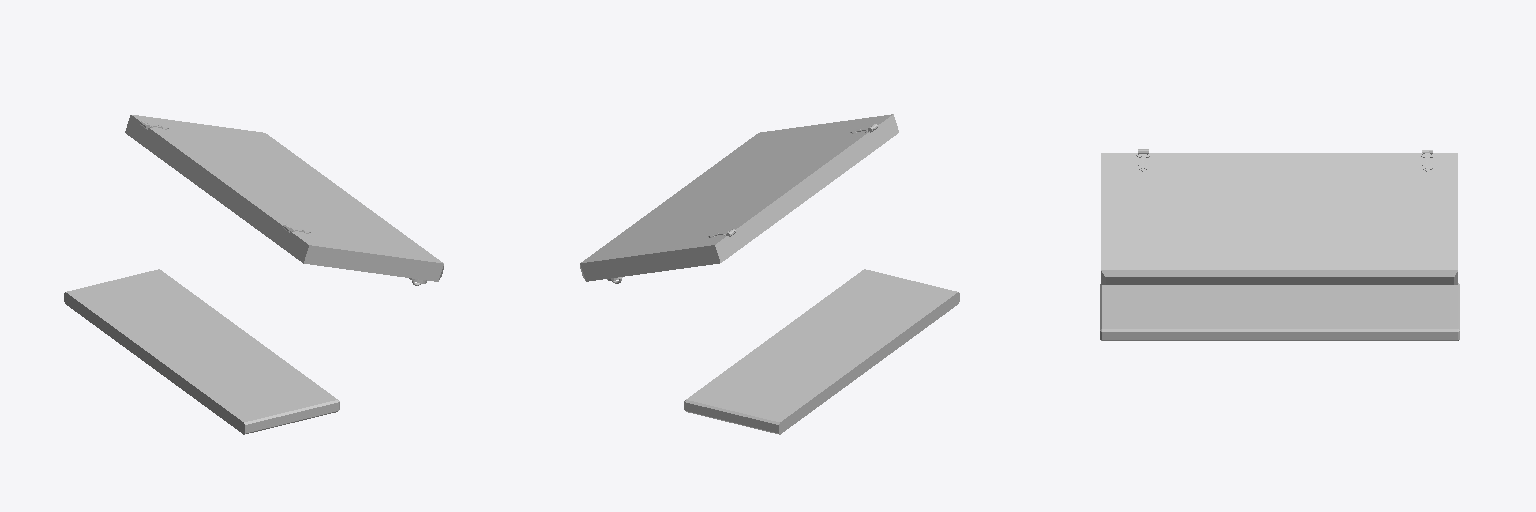
The model's file is counterHP.obj.
The picture shows the model from 3 angles: view 1: azimuth 30°, elevation 25°; view 2: azimuth 150°, elevation 25°; view 3: azimuth 270°, elevation 25°; orthographic projection.
Visible parts, largest first — view 1: slideMiniRoofHP, counter1; view 2: slideMiniRoofHP, counter1; view 3: slideMiniRoofHP, counter1.
Boxes of the visible parts, box(x1,y1,x2,y2) form: slideMiniRoofHP: box(125, 115, 443, 281); counter1: box(64, 269, 339, 434); slideMiniRoofHP: box(580, 114, 898, 281); counter1: box(684, 269, 959, 434); slideMiniRoofHP: box(1101, 153, 1457, 284); counter1: box(1100, 283, 1459, 340).
Size of the model in its own units: 3.78 by 3.17 by 5.83.